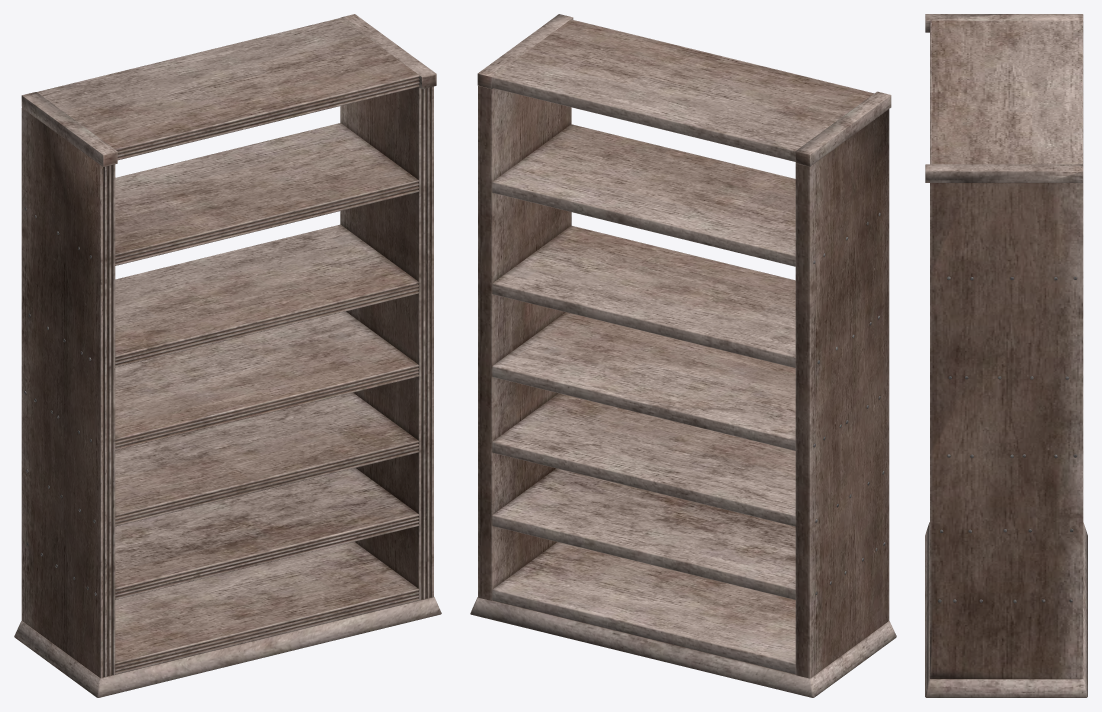
File: wooden_bookshelf_worn.glb
3 renders of one model, left to right at view 1: azimuth 30°, elevation 25°; view 2: azimuth 150°, elevation 25°; view 3: azimuth 270°, elevation 25°, orthographic. The views are drawn at different scales.
Parts seen in each view (by area): view 1: wooden_bookshelf_worn; view 2: wooden_bookshelf_worn; view 3: wooden_bookshelf_worn.
Part boxes in pixels (bbox=[...]): wooden_bookshelf_worn: bbox=[14, 14, 441, 697]; wooden_bookshelf_worn: bbox=[470, 14, 896, 697]; wooden_bookshelf_worn: bbox=[925, 14, 1087, 697].
Size of the model in its own units: 1.37 by 2.06 by 0.5813.
Materials: 1 (1 with a texture image).
